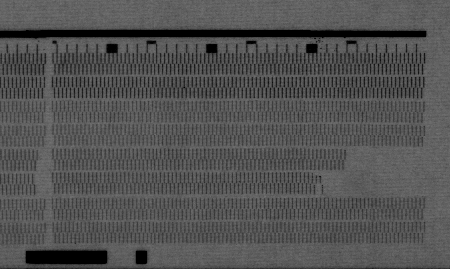Broken hole: (345, 147, 424, 199), (312, 171, 428, 201), (32, 150, 48, 195)
